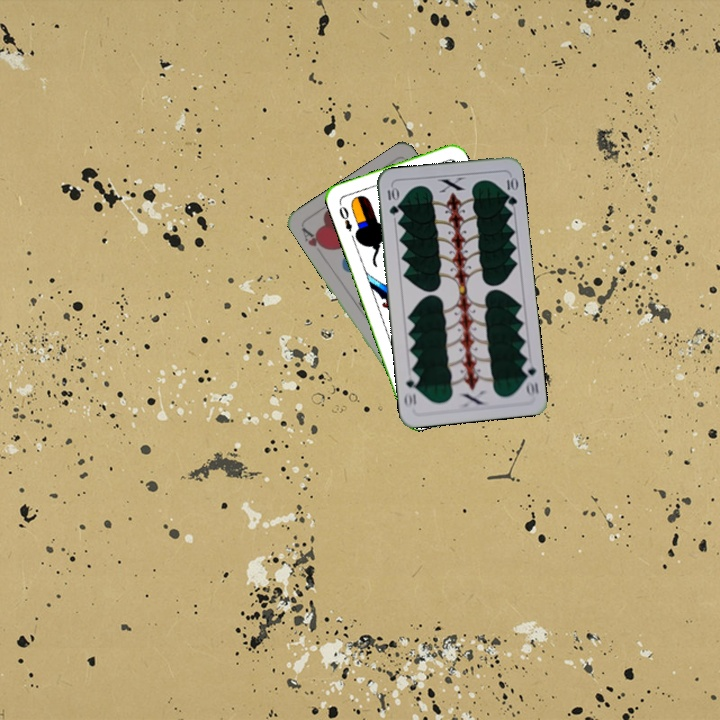EO: (335, 198, 355, 234)
G10: (519, 358, 541, 399), (383, 183, 401, 217)
HA: (297, 223, 330, 253)
